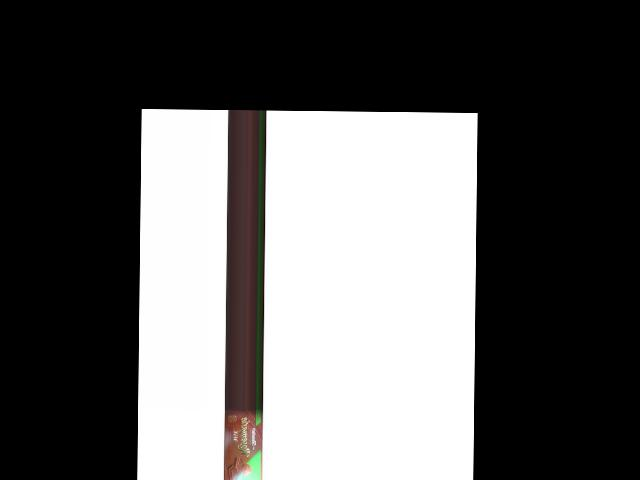chocolate: (224, 407, 261, 480)
